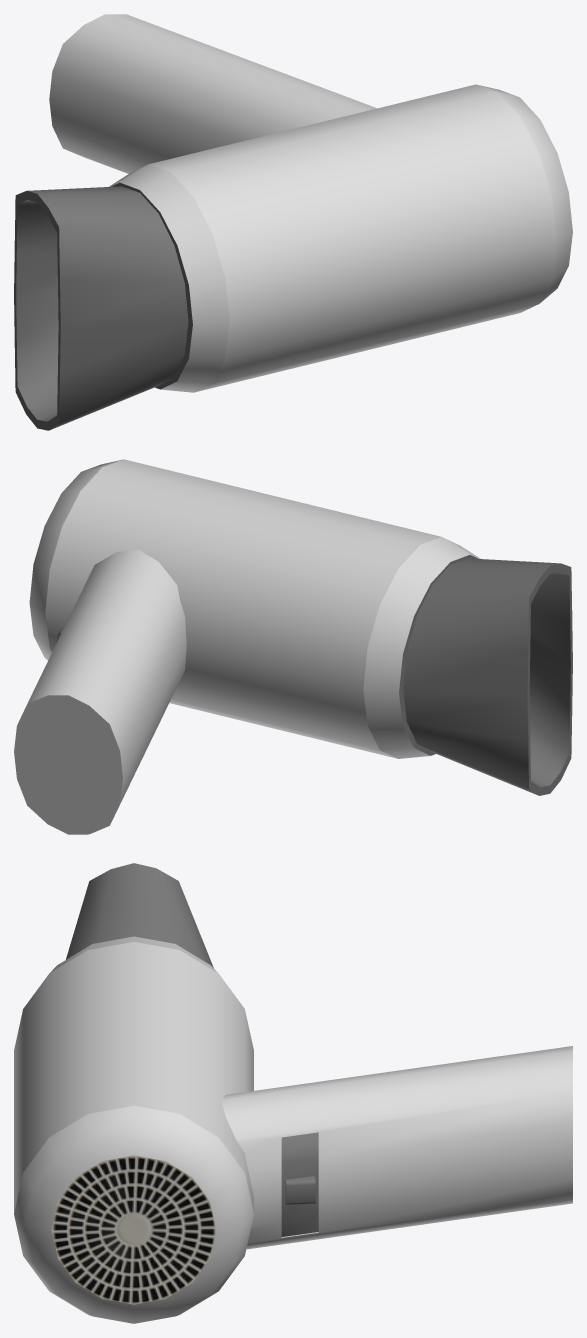
Rendered from hair_dryer.glb.
3 renders of one model, top to bottom at view 1: azimuth 30°, elevation 25°; view 2: azimuth 150°, elevation 25°; view 3: azimuth 270°, elevation 25°, orthographic. The views are drawn at different scales.
Parts seen in each view (by area): view 1: Object_5, Object_4, Object_2; view 2: Object_5, Object_4, Object_2; view 3: Object_5, Object_3, Object_4.
Boxes of the visible parts, x1,y1,x2,y2 form: Object_5: (49,14,572,392); Object_4: (14,186,188,430); Object_2: (111,182,192,389); Object_5: (14,459,480,834); Object_4: (57,558,572,795); Object_2: (399,555,478,755); Object_5: (14,936,572,1323); Object_3: (51,1155,216,1304); Object_4: (66,863,318,1236).
Size of the model in its own units: 0.4812 by 0.2194 by 0.4612.
3 materials, 1 textured.
